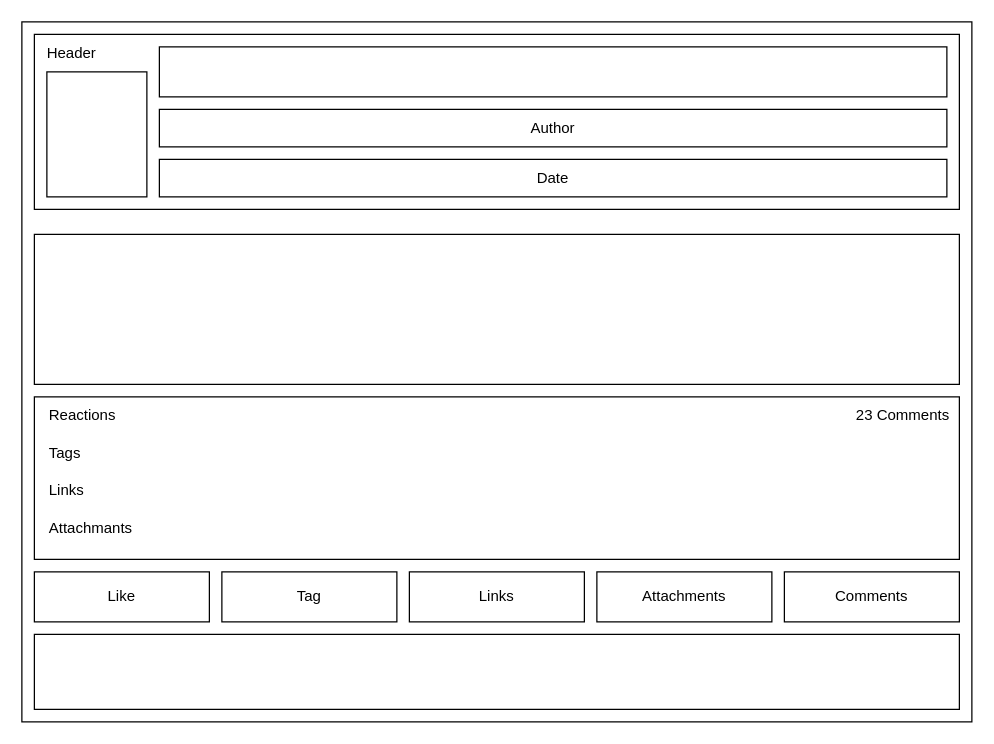
Some shapes in this 994 by 744 pixel diagram are drawn without their labels. Here are the shapes that lost their labels. From the top down, the box of each, then its label:
(158, 46, 947, 97): Title
(33, 233, 959, 384): Content
(33, 633, 959, 709): Approval
